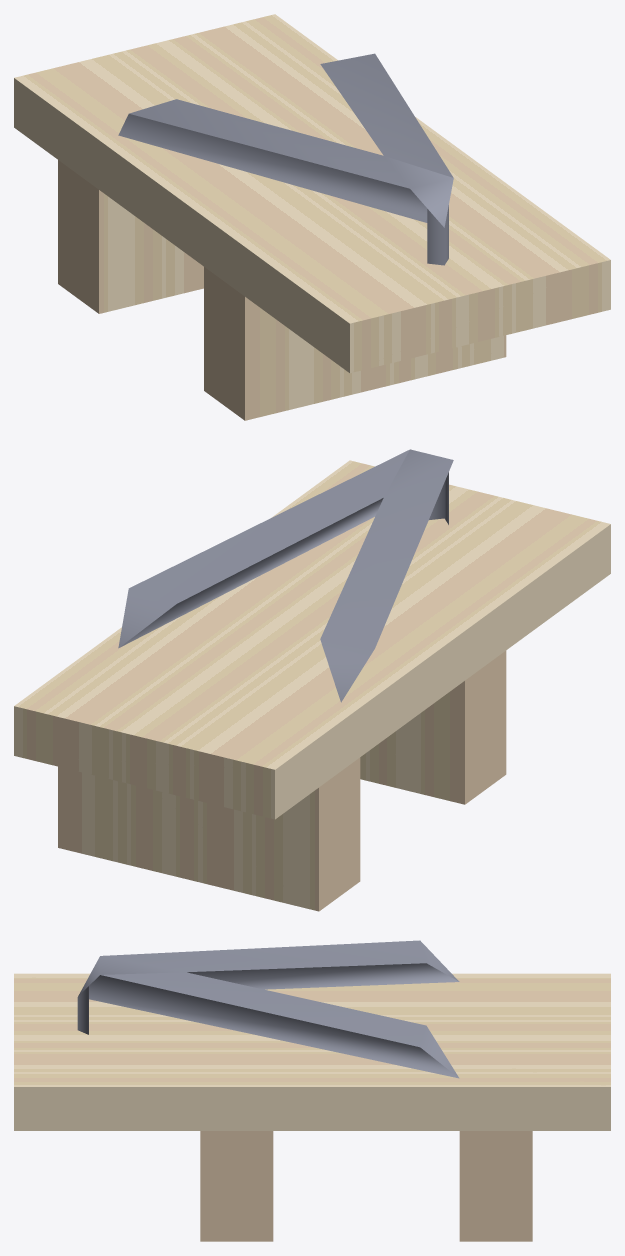
File: 0130_Geta.glb
The picture shows the model from 3 angles, top to bottom: view 1: azimuth 30°, elevation 25°; view 2: azimuth 150°, elevation 25°; view 3: azimuth 270°, elevation 25°; orthographic projection. The views are drawn at different scales.
Visible parts, largest first — view 1: part_0; view 2: part_0; view 3: part_0.
Part boxes in pixels (x1,y1,x2,y2): part_0: (14, 14, 610, 420); part_0: (14, 449, 610, 911); part_0: (14, 940, 610, 1241).
Bounding box in the file's own units: 0.1265 × 0.1143 × 0.2818.
1 material, 1 textured.
